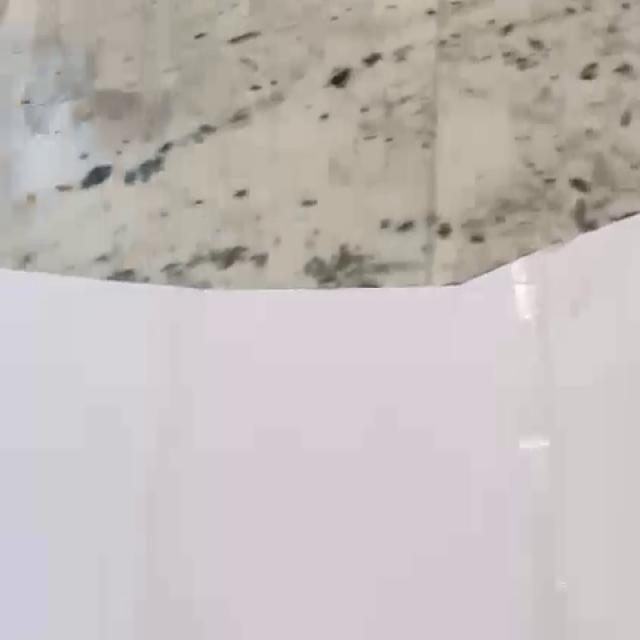road: (0, 213, 640, 640)
